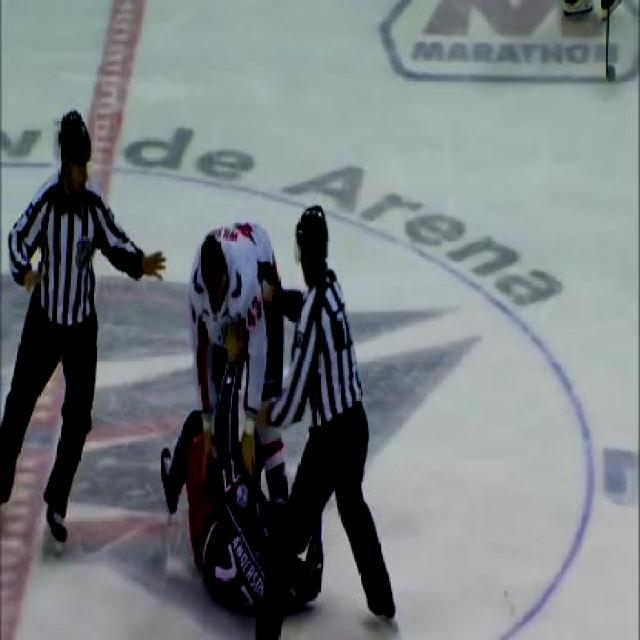fight: (163, 215, 292, 620)
